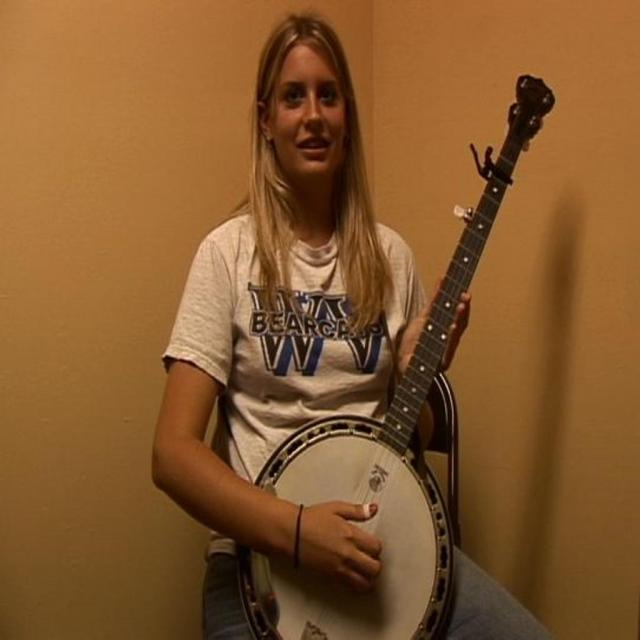nomask: (275, 44, 349, 171)
